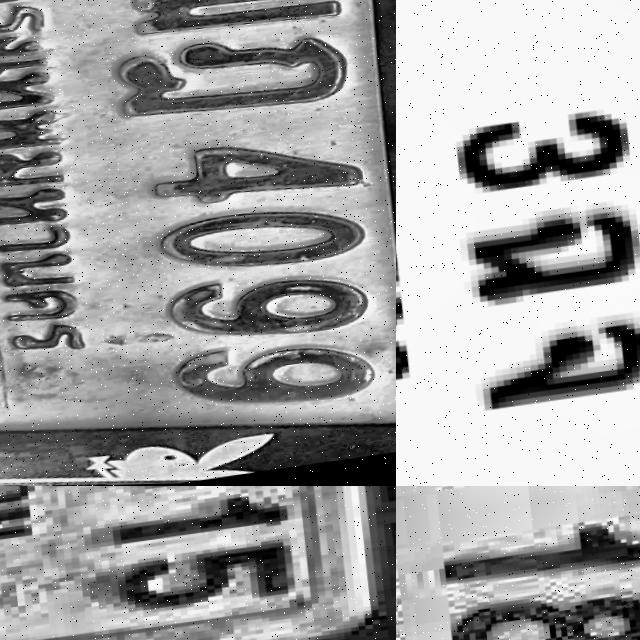license-plate: (0, 0, 396, 486), (396, 0, 640, 486), (0, 486, 396, 640), (396, 486, 640, 640)
